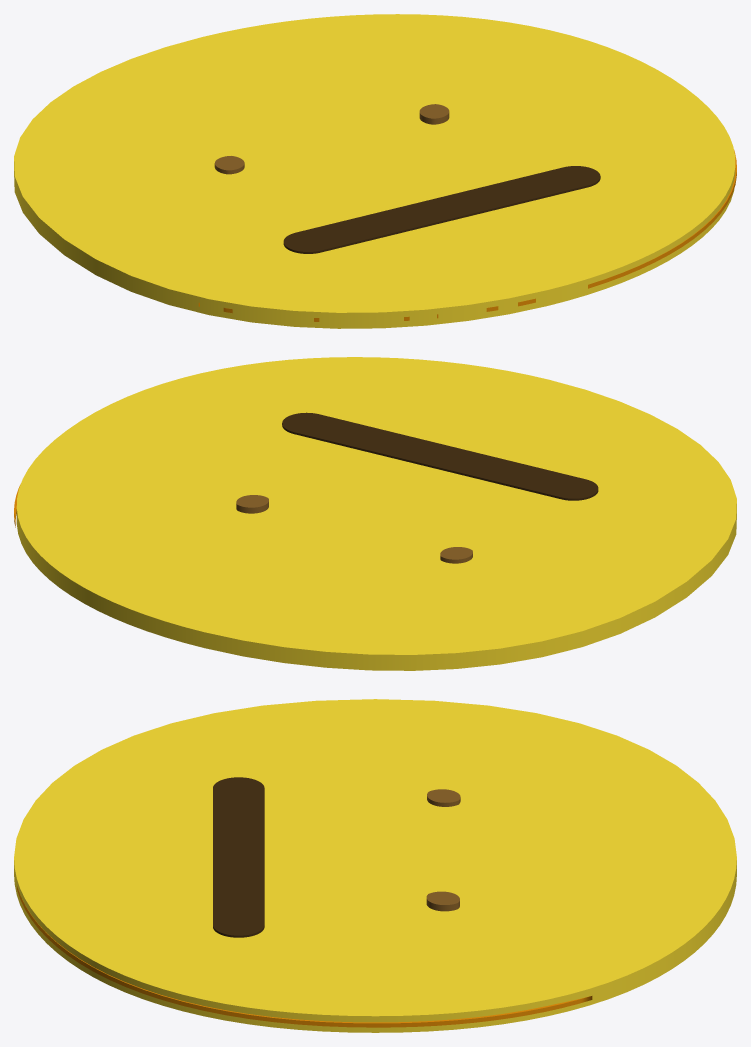
File: emoji_u1f610.glb
3 views of the same model, one above another, from view 1: azimuth 30°, elevation 25°; view 2: azimuth 150°, elevation 25°; view 3: azimuth 270°, elevation 25° (orthographic). The views are drawn at different scales.
Parts seen in each view (by area): view 1: emoji_u1f610; view 2: emoji_u1f610; view 3: emoji_u1f610.
Boxes of the visible parts, box(x1,y1,x2,y2) form: emoji_u1f610: box(14, 14, 736, 328); emoji_u1f610: box(14, 357, 736, 670); emoji_u1f610: box(14, 699, 736, 1032).
Size of the model in its own units: 0.0327 by 0.0014 by 0.0315.
